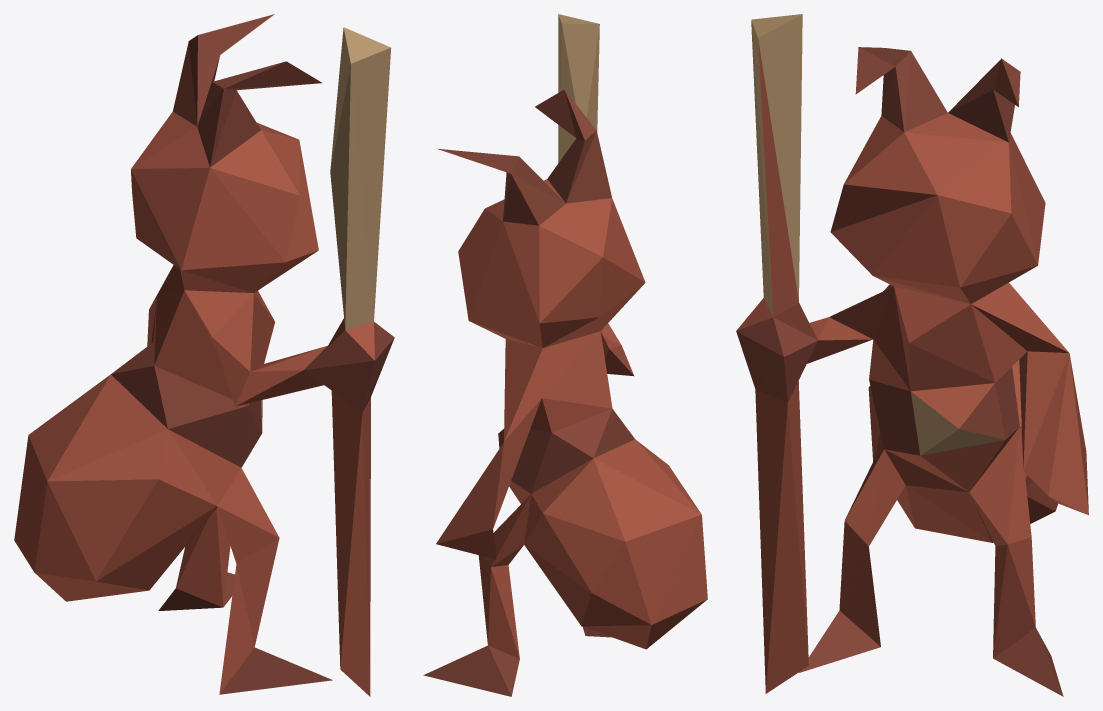
3 renders of one model, left to right at view 1: azimuth 30°, elevation 25°; view 2: azimuth 150°, elevation 25°; view 3: azimuth 270°, elevation 25°, orthographic. The views are drawn at different scales.
Visible parts, largest first — view 1: lion-200.001; view 2: lion-200.001; view 3: lion-200.001.
Boxes of the visible parts, bbox=[...] form: lion-200.001: bbox=[14, 14, 394, 696]; lion-200.001: bbox=[423, 14, 707, 696]; lion-200.001: bbox=[736, 14, 1088, 696].
Size of the model in its own units: 0.4515 by 1.02 by 0.4817.
